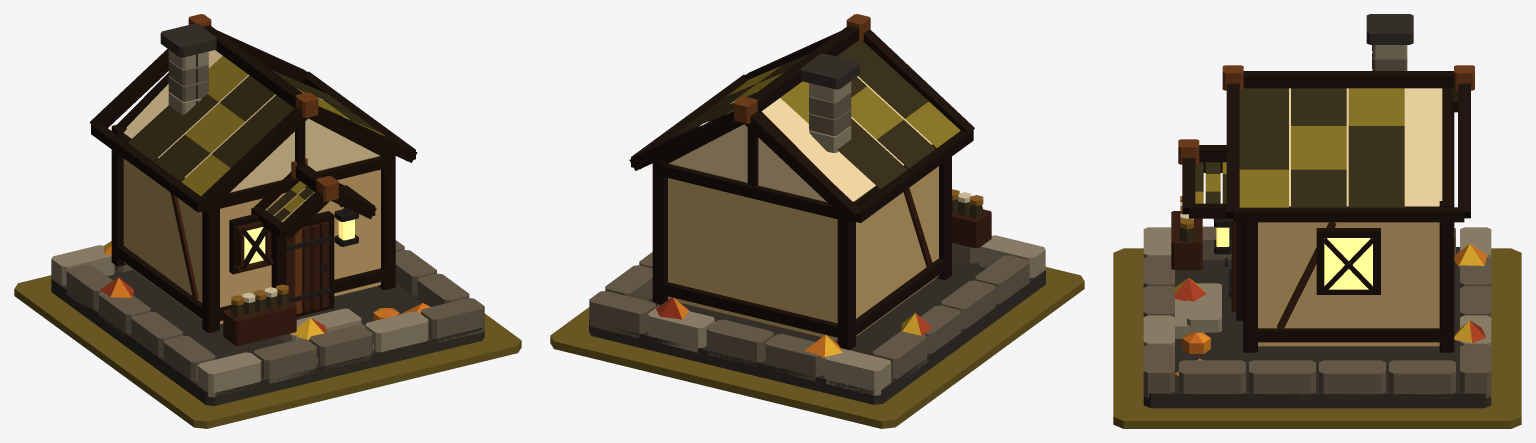
File: cottage_t2.glb
3 renders of one model, left to right at view 1: azimuth 30°, elevation 25°; view 2: azimuth 150°, elevation 25°; view 3: azimuth 270°, elevation 25°, orthographic. The views are drawn at different scales.
Parts seen in each view (by area): view 1: MMR | cottage | T02 Architecture.001, MMR | cottage | Tier 02 Ground.001, MMR | cottage | T02 Autumn Dressing.001; view 2: MMR | cottage | T02 Architecture.001, MMR | cottage | Tier 02 Ground.001, MMR | cottage | T02 Autumn Dressing.001; view 3: MMR | cottage | T02 Architecture.001, MMR | cottage | Tier 02 Ground.001, MMR | cottage | T02 Autumn Dressing.001.
Boxes of the visible parts, bbox=[...] form: MMR | cottage | T02 Architecture.001: bbox=[51, 14, 484, 405]; MMR | cottage | Tier 02 Ground.001: bbox=[14, 275, 521, 428]; MMR | cottage | T02 Autumn Dressing.001: bbox=[100, 241, 430, 339]; MMR | cottage | T02 Architecture.001: bbox=[589, 14, 1045, 404]; MMR | cottage | Tier 02 Ground.001: bbox=[550, 267, 1084, 428]; MMR | cottage | T02 Autumn Dressing.001: bbox=[656, 297, 932, 358]; MMR | cottage | T02 Architecture.001: bbox=[1143, 14, 1491, 408]; MMR | cottage | Tier 02 Ground.001: bbox=[1113, 248, 1521, 428]; MMR | cottage | T02 Autumn Dressing.001: bbox=[1174, 244, 1487, 375].
Bounding box in the file's own units: 2.35 × 1.87 × 2.35.
Materials: 2 (1 with a texture image).
